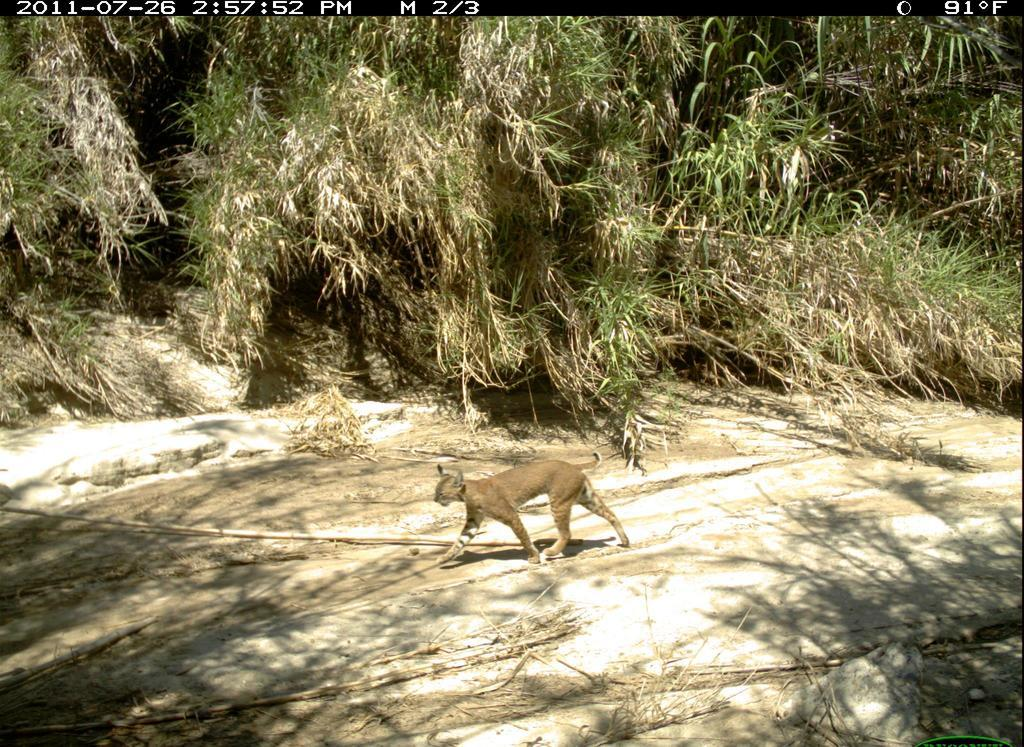bobcat: (431, 447, 644, 585)
